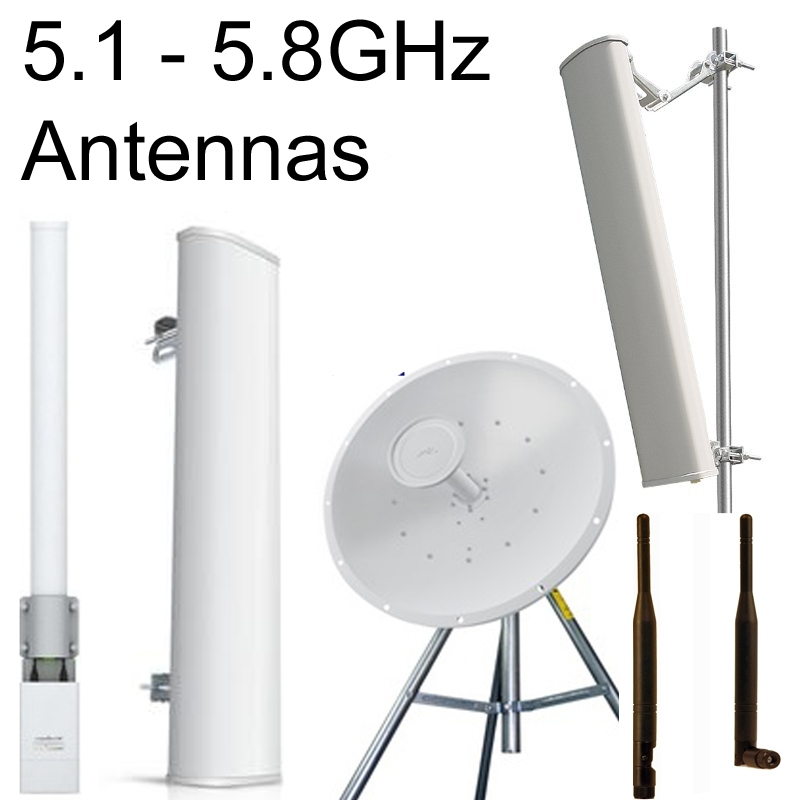ba: (330, 335, 623, 692)
sa: (547, 41, 758, 531), (149, 216, 299, 790)
